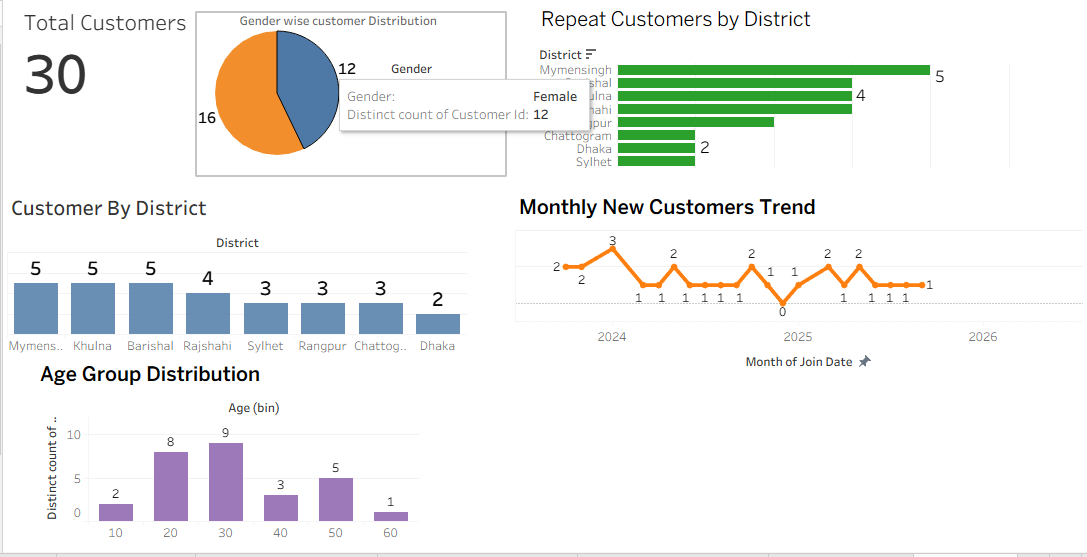

Layout of this report page (visuals, bound fields, positions):
{"tool":"tableau","page":{"name":"Dashboard 1","canvas":[1000,1000],"units":"permille","ordinal":0},"visuals":[{"type":"worksheet","title":"Repeat Customers by District","mark":"Automatic","rows":["district"],"cols":["customer_id"],"box":[465.1,3.6,478.6,300.7]},{"type":"worksheet","title":"Total Customers KPI","mark":"Automatic","box":[15.1,12.7,317.1,204.7]},{"type":"text","box":[203.5,14.5,184.2,45.3]},{"type":"worksheet","title":"Gender-wise Customer Distribution","mark":"Pie","box":[169.1,23.6,267.4,293.5]},{"type":"legend","title":"Gender-wise Customer Distribution","param":"[federated.03arc1s0yzvll219e72cr0brz30w].[none:gender:nk]","box":[338.1,108.7,117.8,105.1]},{"type":"worksheet","title":"Customers by District","mark":"Automatic","rows":["customer_id (customers.csv)"],"cols":["district"],"box":[3.4,342.4,400.3,322.5]},{"type":"worksheet","title":"Monthly New Customers Trend","mark":"Line","rows":["customer_id"],"cols":["join_date"],"box":[445.8,346,494.5,337]},{"type":"worksheet","title":"Age Group Distribution","mark":"Automatic","rows":["customer_id"],"cols":["Age (bin)"],"box":[28.6,648.6,333.1,333.3]}]}

Visuals, with their boxes on the dashboard's canvas, which has no fixed pixel size, in thousandths of its width and height (x1, y1, x2, y2). These are canvas units, not pixel positions in the 1087x557 screenshot, which may show the page scaled, cropped or inside an application window:
"Repeat Customers by District" worksheet: [465, 4, 944, 304]
"Total Customers KPI" worksheet: [15, 13, 332, 217]
text: [204, 14, 388, 60]
"Gender-wise Customer Distribution" worksheet (Pie marks): [169, 24, 436, 317]
"Gender-wise Customer Distribution" legend: [338, 109, 456, 214]
"Customers by District" worksheet: [3, 342, 404, 665]
"Monthly New Customers Trend" worksheet (Line marks): [446, 346, 940, 683]
"Age Group Distribution" worksheet: [29, 649, 362, 982]
